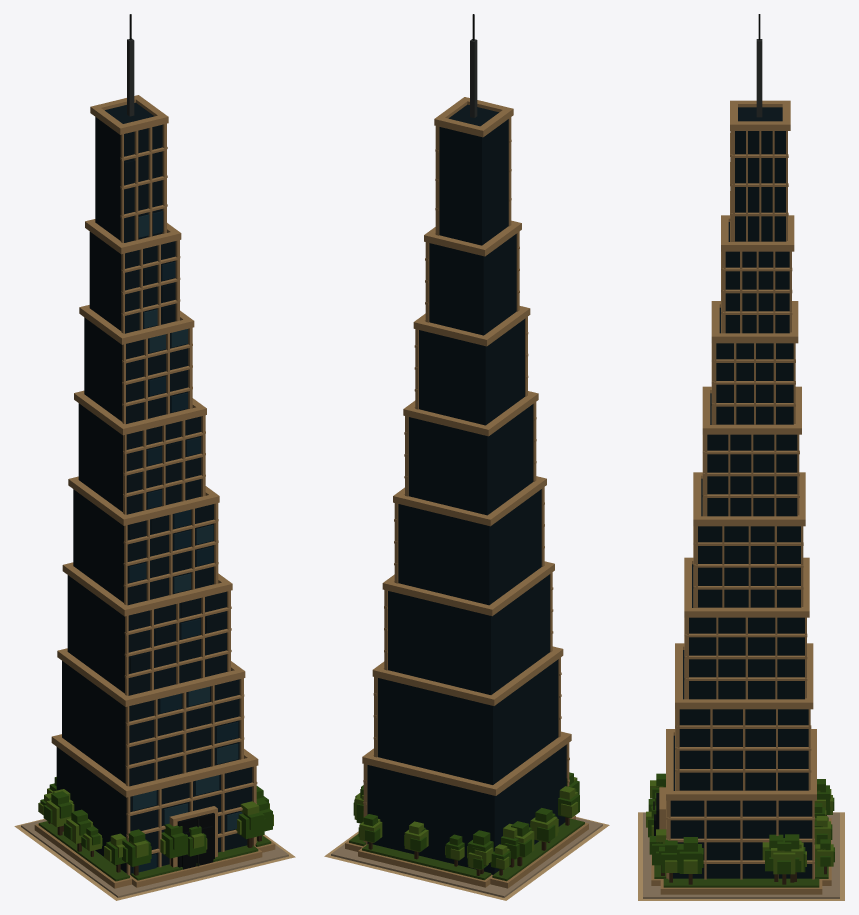
File: SM_Mapa_006.fbx
3 views of the same model, side by side, from view 1: azimuth 30°, elevation 25°; view 2: azimuth 150°, elevation 25°; view 3: azimuth 270°, elevation 25° (orthographic).
Visible parts, largest first — view 1: SM_Mapa_006; view 2: SM_Mapa_006; view 3: SM_Mapa_006.
Part boxes in pixels (x1,y1,x2,y2): SM_Mapa_006: [14, 14, 295, 900]; SM_Mapa_006: [324, 14, 609, 900]; SM_Mapa_006: [638, 14, 844, 900].
Bounding box in the file's own units: 14 × 13.8 × 61.42.
